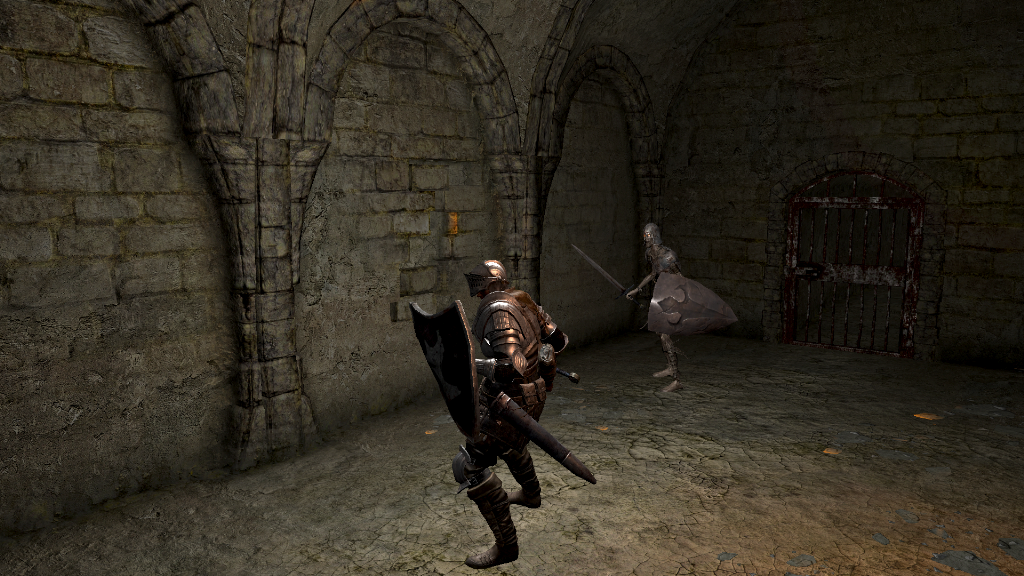player: (410, 258, 582, 570)
undeadSoldier: (625, 223, 693, 393)
